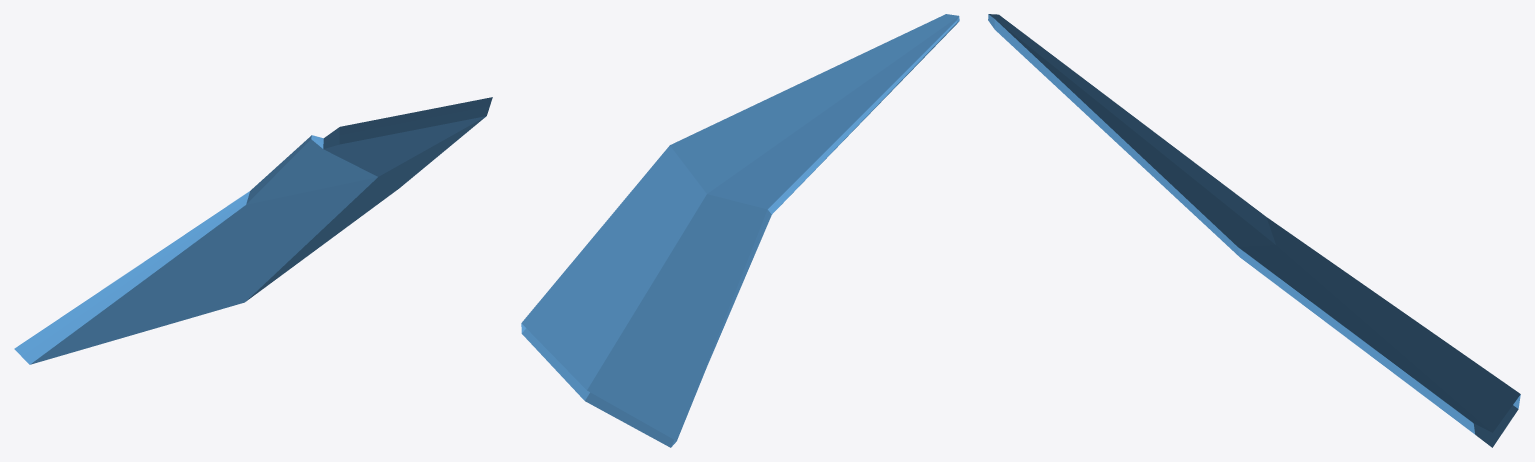
The model's file is bird_ala1.obj.
3 renders of one model, left to right at view 1: azimuth 30°, elevation 25°; view 2: azimuth 150°, elevation 25°; view 3: azimuth 270°, elevation 25°, orthographic. The views are drawn at different scales.
Visible parts, largest first — view 1: polySurface25 polySurface23; view 2: polySurface25 polySurface23; view 3: polySurface25 polySurface23.
Part boxes in pixels (x1=…): polySurface25 polySurface23: x1=14, y1=97, x2=492, y2=364; polySurface25 polySurface23: x1=521, y1=14, x2=959, y2=447; polySurface25 polySurface23: x1=988, y1=14, x2=1520, y2=447.
Bounding box in the file's own units: 1.07 × 1.24 × 1.68.
Materials: 1 (1 with a texture image).
